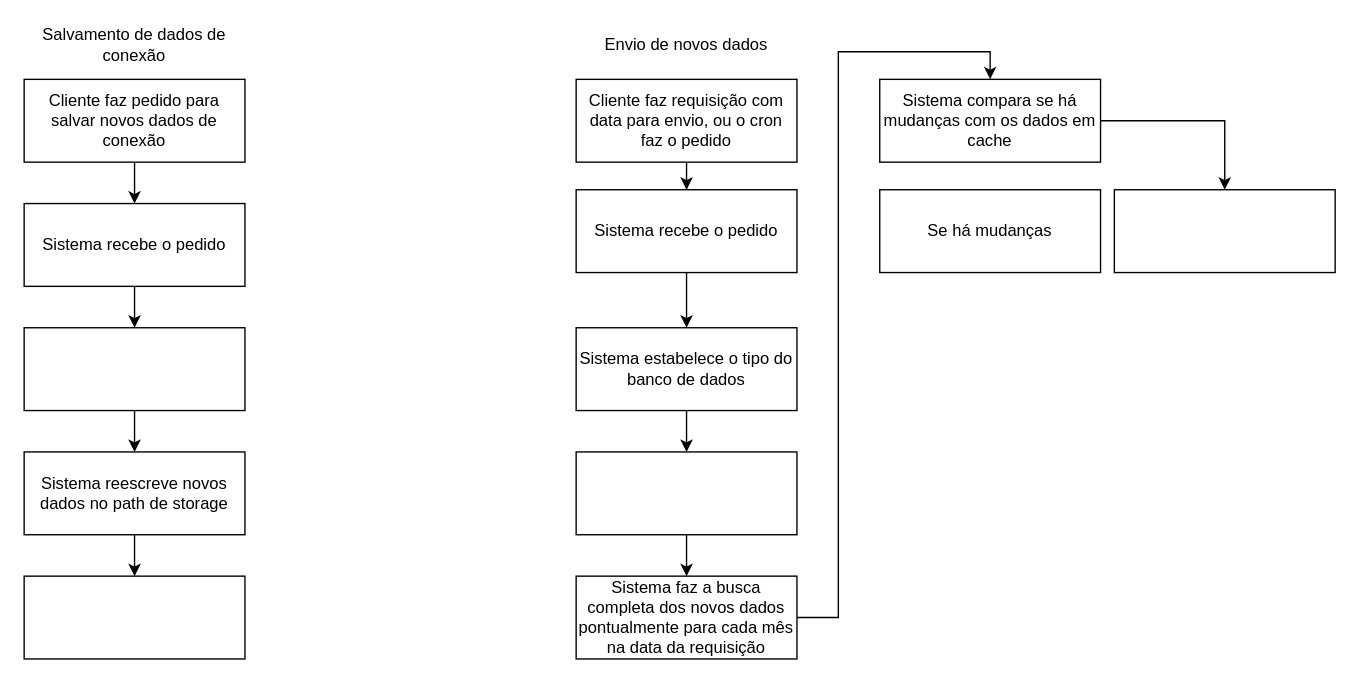
Some shapes in this 1359 by 683 pixel diagram are drawn without their labels. The shapes that lost their labels are listed below. From the top down, each one's centre as x and y in pixels, then its label:
the point at 1224,230: Se não há mudanças o
the point at 134,368: Sistema pega os "paths" de storage
the point at 686,493: Sistema estabelece um singleton de conexão com o db
the point at 134,617: Sistema retorna booleano true se foi sucesso e falso caso tenha dado errado.
